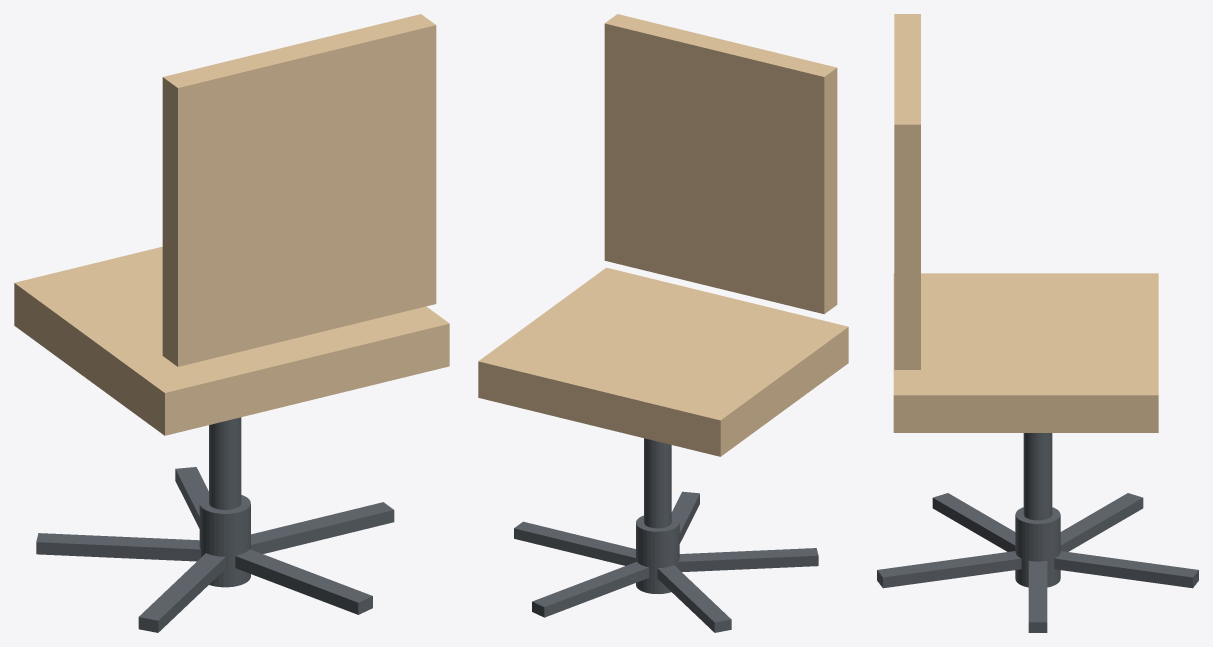
The model's file is meeting_rooms___private_spaces_catalog_75.glb.
3 views of the same model, side by side, from view 1: azimuth 30°, elevation 25°; view 2: azimuth 150°, elevation 25°; view 3: azimuth 270°, elevation 25° (orthographic). The views are drawn at different scales.
Visible parts, largest first — view 1: Cylinder; view 2: Cylinder; view 3: Cylinder.
Part boxes in pixels (bbox=[...]): Cylinder: bbox=[14, 14, 449, 632]; Cylinder: bbox=[478, 14, 848, 632]; Cylinder: bbox=[877, 14, 1198, 632].
Bounding box in the file's own units: 0.5249 × 0.95 × 0.5436.
